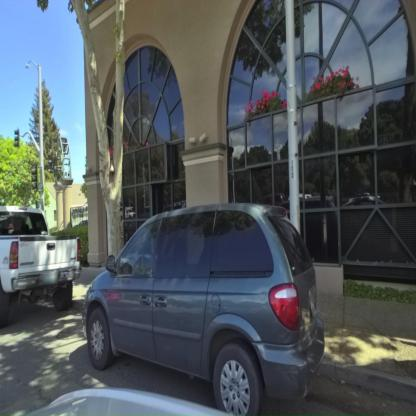car: (81, 202, 324, 412)
truck: (0, 203, 84, 332)
